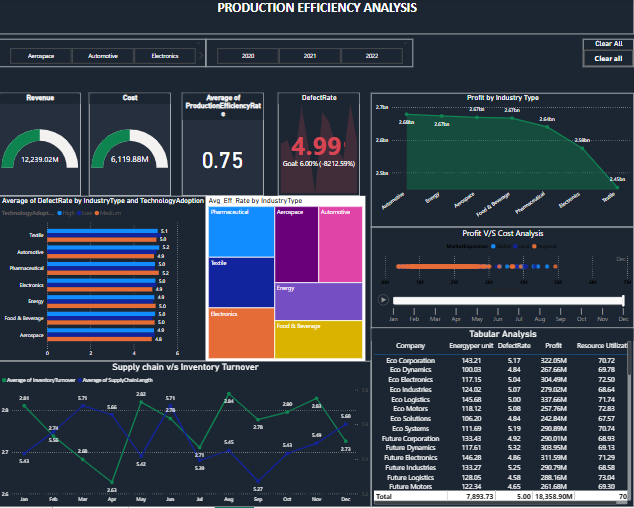

The dashboard page shown, as its layout file describes it:
{"tool":"powerbi","page":{"name":"Page 1","canvas":[1500,1200],"ordinal":0},"visuals":[{"type":"group","id":"g1","title":"Group 1","box":[0,222,852.8,243.3],"z":0},{"type":"gauge","title":" Revenue","fields":{"Y":["Sum(Fact Table.Revenue)"]},"box":[0,222,193.1,243.3],"z":0,"group":"g1"},{"type":"gauge","title":"Cost","fields":{"Y":["Sum(Fact Table.ProductionCost)"]},"box":[212.8,222,192.8,243.3],"z":1000,"group":"g1"},{"type":"areaChart","title":" Profit by Industry Type","fields":{"Category":["Fact Table.IndustryType"],"Y":["Sum(Fact Table.Profit)"]},"box":[878.7,222,621.3,316.5],"z":1000},{"type":"card","title":"Average of ProductionEfficiencyRate","fields":{"Values":["Avg(Fact Table.ProductionEfficiencyRate)"]},"box":[432.2,222,192.8,243.3],"z":2000,"group":"g1"},{"type":"clusteredBarChart","fields":{"Category":["Fact Table.IndustryType"],"Y":["Avg(Fact Table.DefectRate)"],"Series":["Fact Table.TechnologyAdoption"]},"box":[0,465.4,489,389.8],"z":2000},{"type":"kpi","title":"DefectRate","fields":{"Indicator":["Avg(Fact Table.DefectRate)"],"TrendLine":["ClaendarDim.MonthName"],"Goal":["Table.Defection Target"]},"box":[659.9,222,192.8,243.3],"z":3000,"group":"g1"},{"type":"treemap","fields":{"Values":["Table.Avg_Eff_Rate"],"Group":["Fact Table.IndustryType"]},"box":[489,465.4,375.6,389.8],"z":3000},{"type":"scatterChart","title":"Profit V/S Cost Analysis","fields":{"Series":["Fact Table.MarketExpansion"],"X":["Sum(Fact Table.Profit)"],"Category":["Fact Table.ProductionCost"],"Play":["ClaendarDim.MonthName"]},"box":[878.7,538.6,621.3,238.6],"z":4000},{"type":"tableEx","title":"Tabular Analysis","fields":{"Values":["Fact Table.CompanyName","Sum(Fact Table.Per Unit Eng)","Avg(Fact Table.DefectRate)","Sum(Fact Table.Profit)","Avg(Fact Table.ResourceUtilization)"]},"box":[878.7,777.2,621.3,422.8],"z":5000},{"type":"lineChart","title":"Supply chain v/s Inventory Turnover","fields":{"Category":["ClaendarDim.MonthName"],"Y":["Avg(Fact Table.InventoryTurnover)"],"Y2":["Avg(Fact Table.SupplyChainLength)"]},"box":[0,855.1,878.7,344.9],"z":6000},{"type":"textbox","title":"PRODUCTION EFFICIENCY ANALYSIS","box":[0,0,1500,82.7],"z":7000},{"type":"slicer","fields":{"Values":["Fact Table.IndustryType"]},"box":[0,94.5,489,66.1],"z":7000,"group":"g2"},{"type":"group","id":"g2","title":"Group 2","box":[0,94.5,1499.5,66.1],"z":8000},{"type":"slicer","fields":{"Values":["ClaendarDim.Year"]},"box":[489,94.5,489,66.1],"z":8000,"group":"g2"},{"type":"actionButton","title":"Clear All","box":[1379.5,94.5,120,66],"z":9000,"group":"g2"}]}

Visuals, with their boxes in screenshot pixels (x1, y1, x2, y2), scaled from the page's 1500x1200 canvas onto the 634x508 screenshot:
"Group 1" group: bbox(0, 94, 360, 197)
" Revenue" gauge: bbox(0, 94, 82, 197)
"Cost" gauge: bbox(90, 94, 171, 197)
" Profit by Industry Type" areaChart: bbox(371, 94, 633, 228)
"Average of ProductionEfficiencyRate" card: bbox(183, 94, 264, 197)
clusteredBarChart - Fact Table.IndustryType x Avg(Fact Table.DefectRate): bbox(0, 197, 207, 362)
"DefectRate" kpi: bbox(279, 94, 360, 197)
treemap - Table.Avg_Eff_Rate x Fact Table.IndustryType: bbox(207, 197, 365, 362)
"Profit V/S Cost Analysis" scatterChart: bbox(371, 228, 633, 329)
"Tabular Analysis" tableEx: bbox(371, 329, 633, 507)
"Supply chain v/s Inventory Turnover" lineChart: bbox(0, 362, 371, 507)
"PRODUCTION EFFICIENCY ANALYSIS" textbox: bbox(0, 0, 633, 35)
slicer - Fact Table.IndustryType: bbox(0, 40, 207, 68)
"Group 2" group: bbox(0, 40, 633, 68)
slicer - ClaendarDim.Year: bbox(207, 40, 413, 68)
"Clear All" actionButton: bbox(583, 40, 633, 68)
